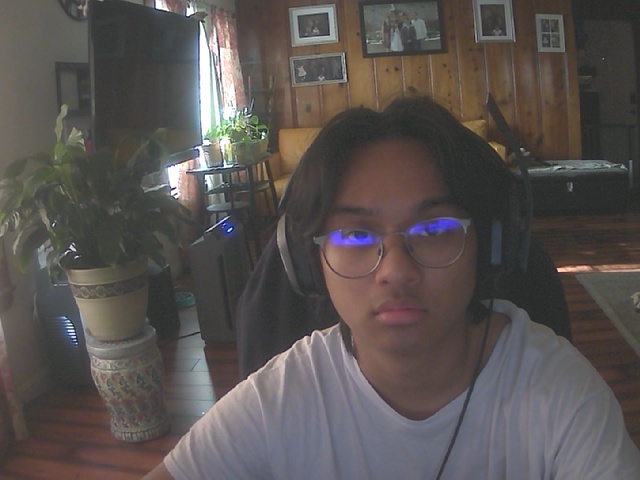neutral: (316, 130, 489, 352)
